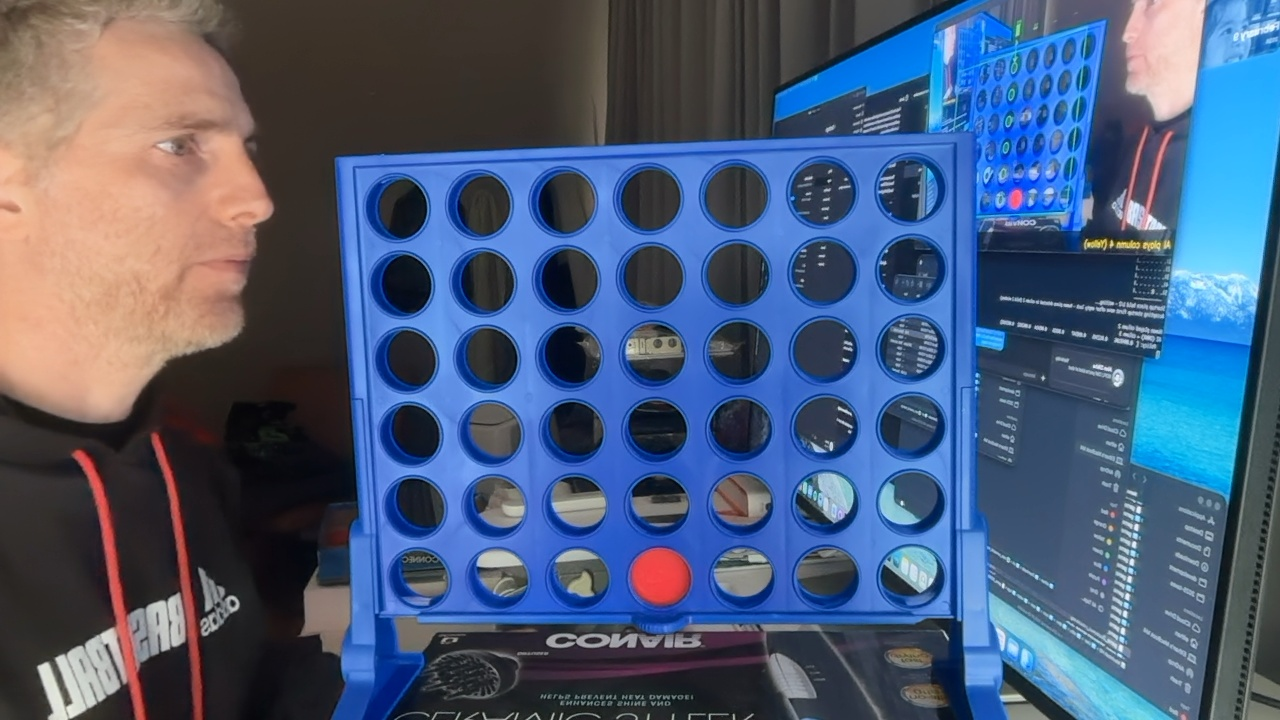red piece: (630, 548, 691, 606)
